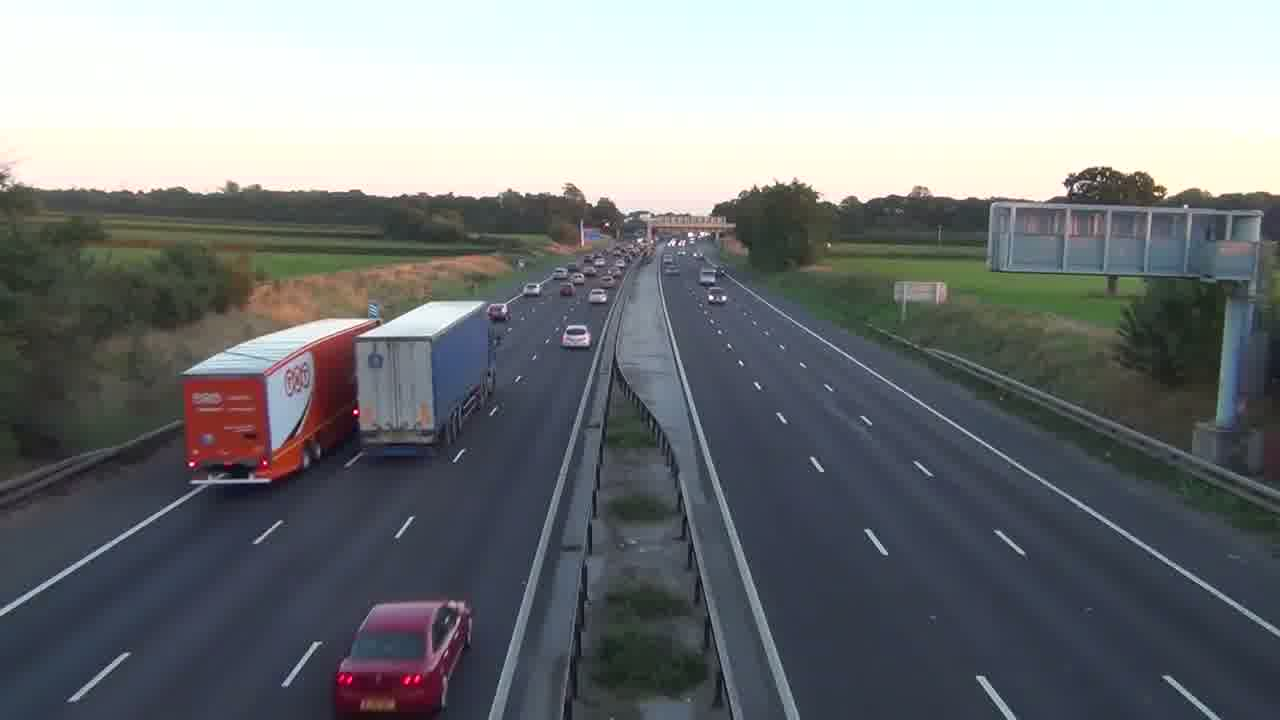car: (334, 595, 475, 716), (560, 323, 592, 350), (588, 288, 607, 304)
truck: (176, 313, 382, 484)
